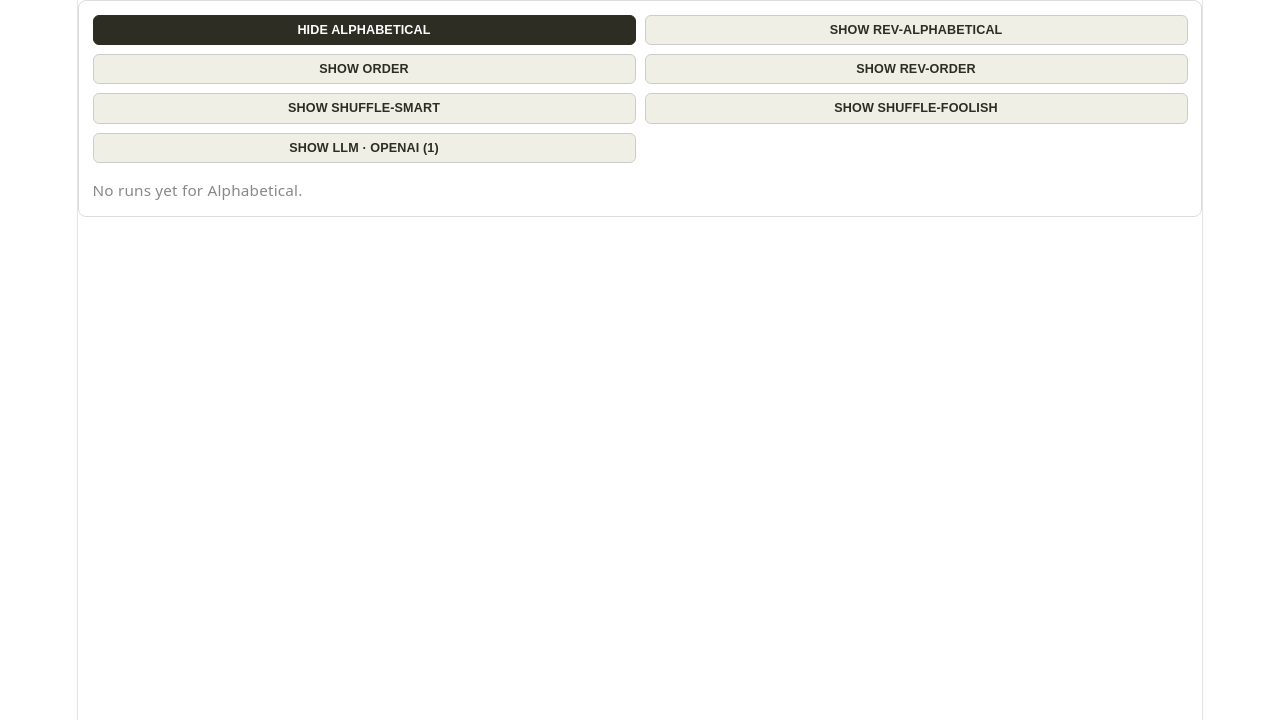
Test case: GuessSequencePanel Component › does not render the 'view full run' link when puzzleId isn't a valid number
Click the button "Show LLM · OpenAI (1)" at (364, 148), box [92,133,636,163]
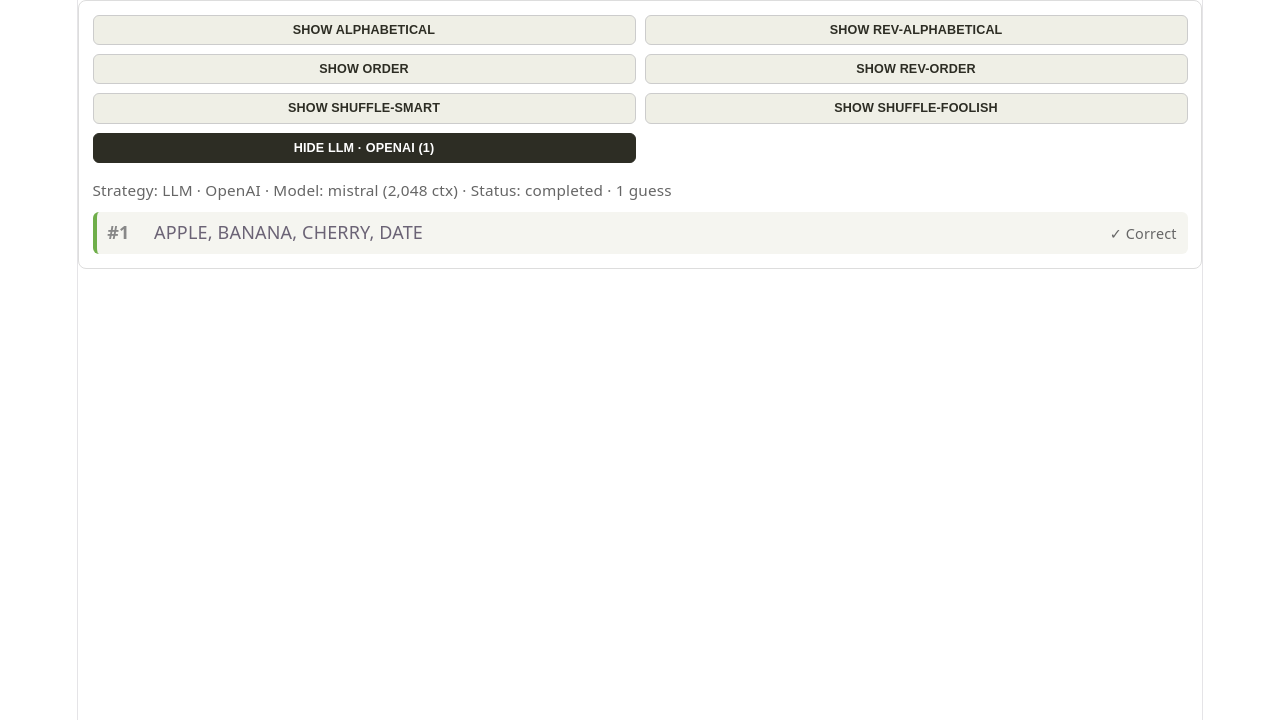
Result: the text "APPLE, BANANA, CHERRY, DATE" is shown at [154,220,423,244]
